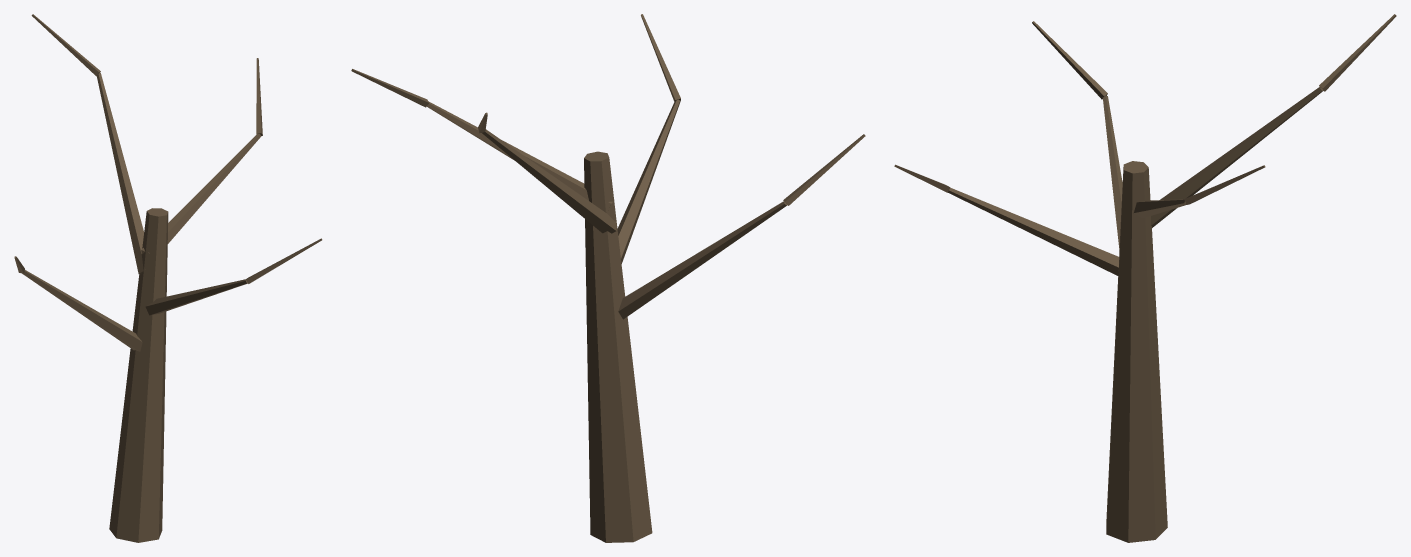
File: dead_tree.glb
3 renders of one model, left to right at view 1: azimuth 30°, elevation 25°; view 2: azimuth 150°, elevation 25°; view 3: azimuth 270°, elevation 25°, orthographic. The views are drawn at different scales.
Parts seen in each view (by area): view 1: Tree; view 2: Tree; view 3: Tree.
Part boxes in pixels (<box>): Tree: <box>14,14,322,542</box>; Tree: <box>351,14,865,542</box>; Tree: <box>894,14,1396,542</box>.
Size of the model in its own units: 3.18 by 3.9 by 3.42.
